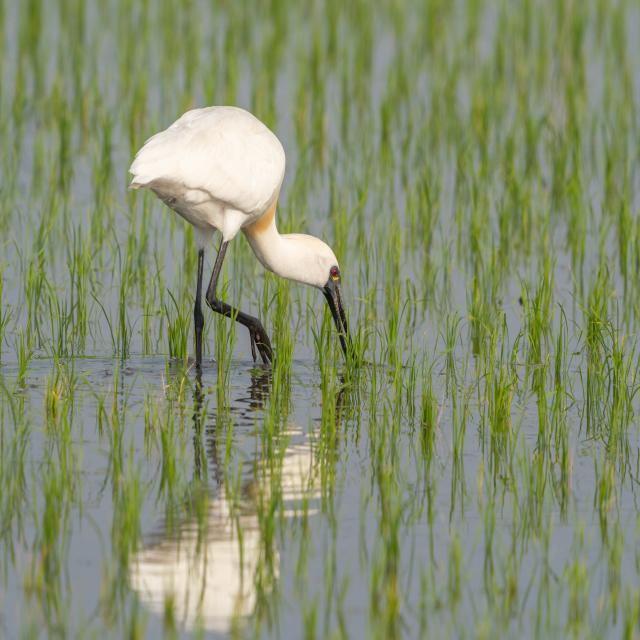Black-faced spoonbill: (130, 107, 349, 367)
